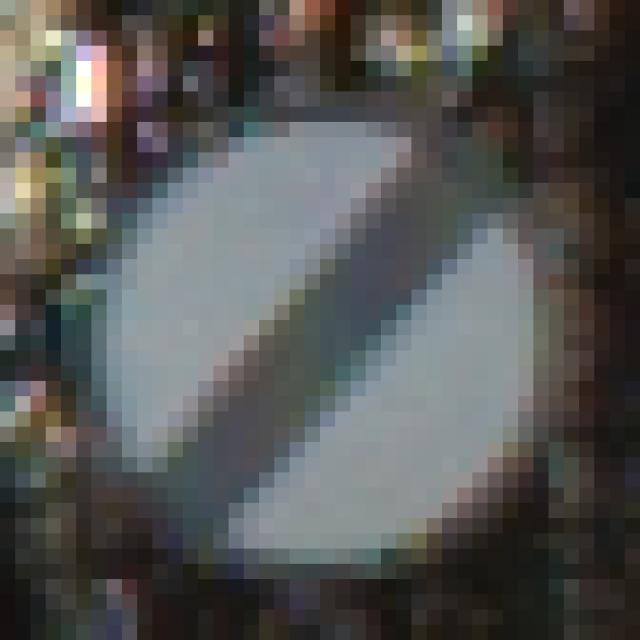restriction ends: (73, 73, 571, 592)
